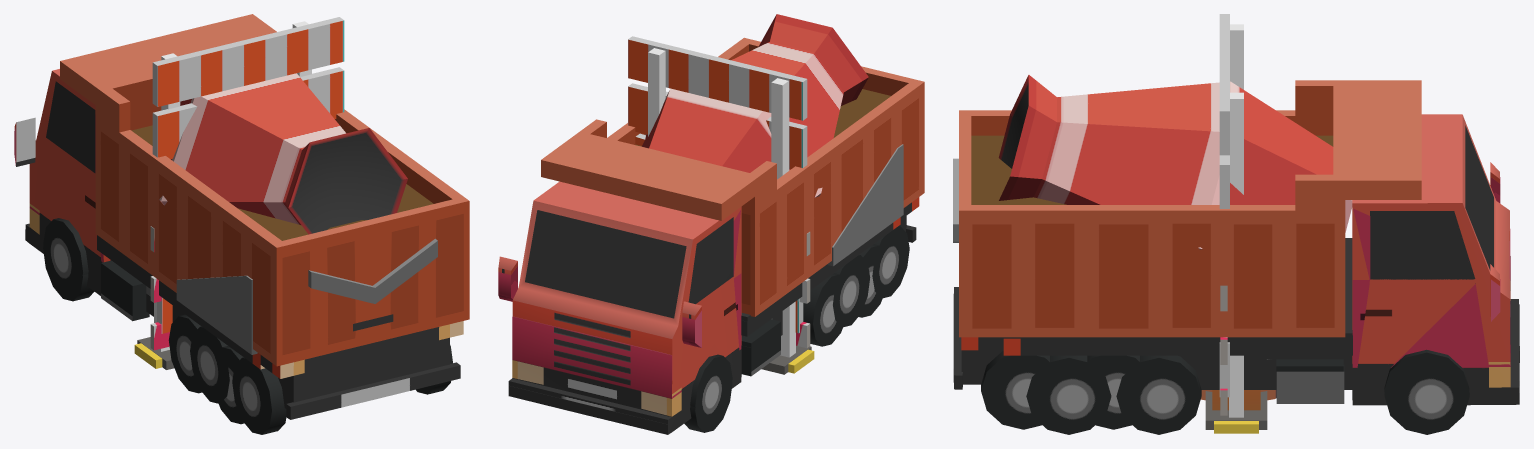
File: CR_Obstacles_v02.fbx
The picture shows the model from 3 angles, left to right: view 1: azimuth 30°, elevation 25°; view 2: azimuth 150°, elevation 25°; view 3: azimuth 270°, elevation 25°; orthographic projection. The views are drawn at different scales.
Parts seen in each view (by area): view 1: Vehicle_DumpTruck3, Vehicle_MixerTruck5, Prop_Barrier05, Prop_Barrier03; view 2: Vehicle_DumpTruck3, Vehicle_MixerTruck5, Prop_Barrier05, Prop_Barrier03, Prop_Barrier06; view 3: Vehicle_DumpTruck3, Vehicle_MixerTruck5, Prop_Barrier05, Prop_Barrier03, Prop_Barrier06, Prop_Barrier02.
Boxes of the visible parts, box(x1,y1,x2,y2) form: Vehicle_DumpTruck3: box(14, 14, 469, 434); Vehicle_MixerTruck5: box(14, 73, 437, 424); Prop_Barrier05: box(152, 17, 344, 349); Prop_Barrier03: box(134, 226, 169, 368); Vehicle_DumpTruck3: box(498, 37, 924, 427); Vehicle_MixerTruck5: box(498, 14, 903, 434); Prop_Barrier05: box(628, 36, 807, 355); Prop_Barrier03: box(784, 232, 814, 373); Prop_Barrier06: box(761, 345, 811, 374); Vehicle_DumpTruck3: box(953, 80, 1519, 429); Vehicle_MixerTruck5: box(953, 75, 1519, 434); Prop_Barrier05: box(1219, 14, 1243, 397); Prop_Barrier03: box(1214, 285, 1258, 433); Prop_Barrier06: box(1205, 391, 1267, 429); Prop_Barrier02: box(1212, 390, 1260, 410).
Size of the model in its own units: 517 by 697 by 1101.
